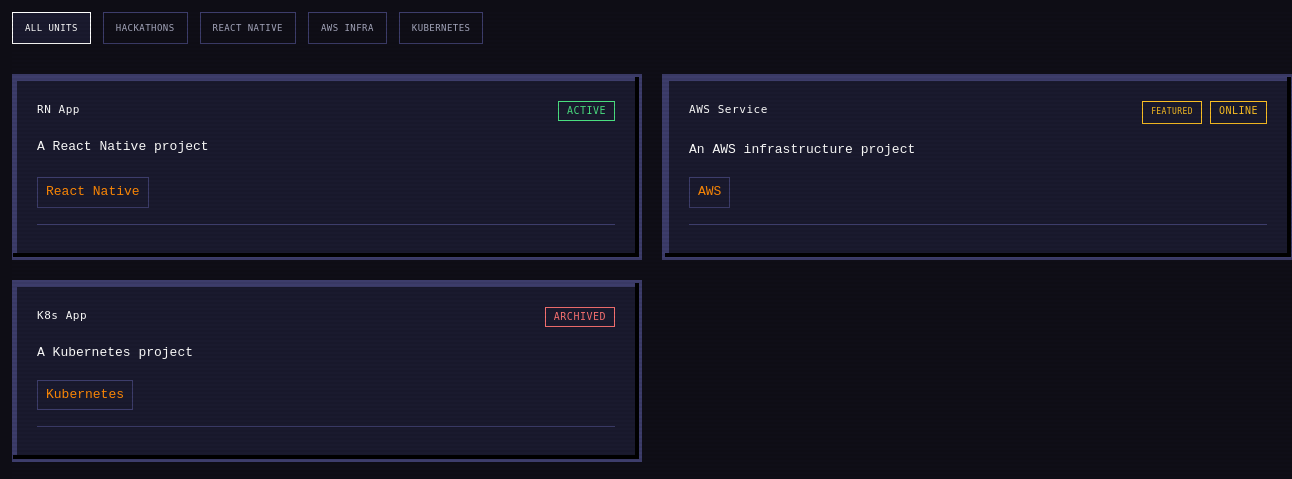
Test: ProjectGrid › filters to REACT NATIVE projects when filter clicked
Step 1. Click the button "REACT NATIVE" → coordinates (248, 28), box left=200, top=12, right=296, bottom=44
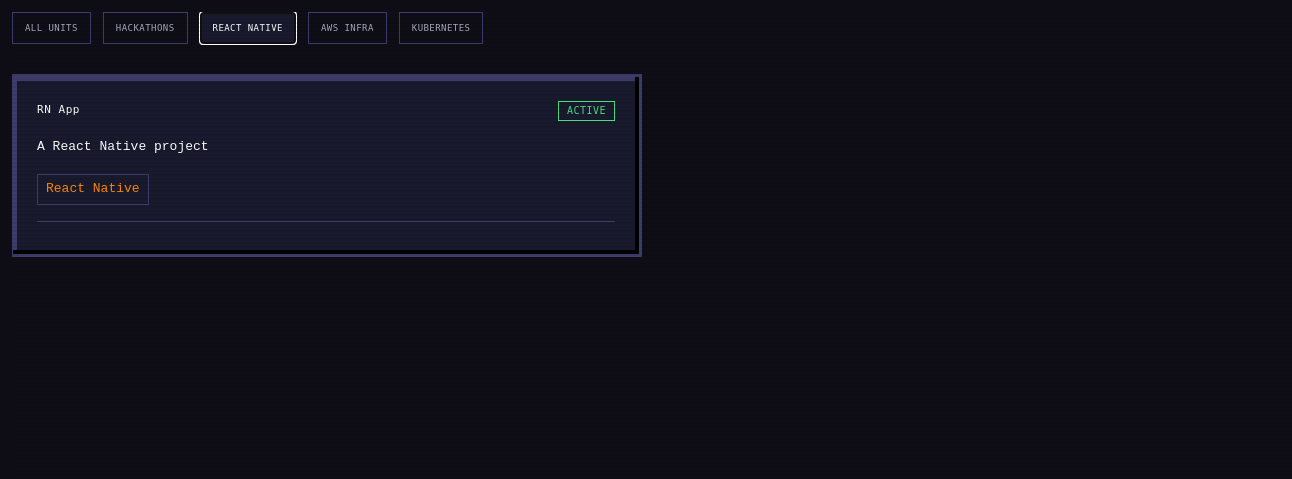
expect the heading "RN App" is shown: met, box left=37, top=103, right=80, bottom=116
expect the heading "AWS Service" is gone: met
expect the heading "K8s App" is gone: met
